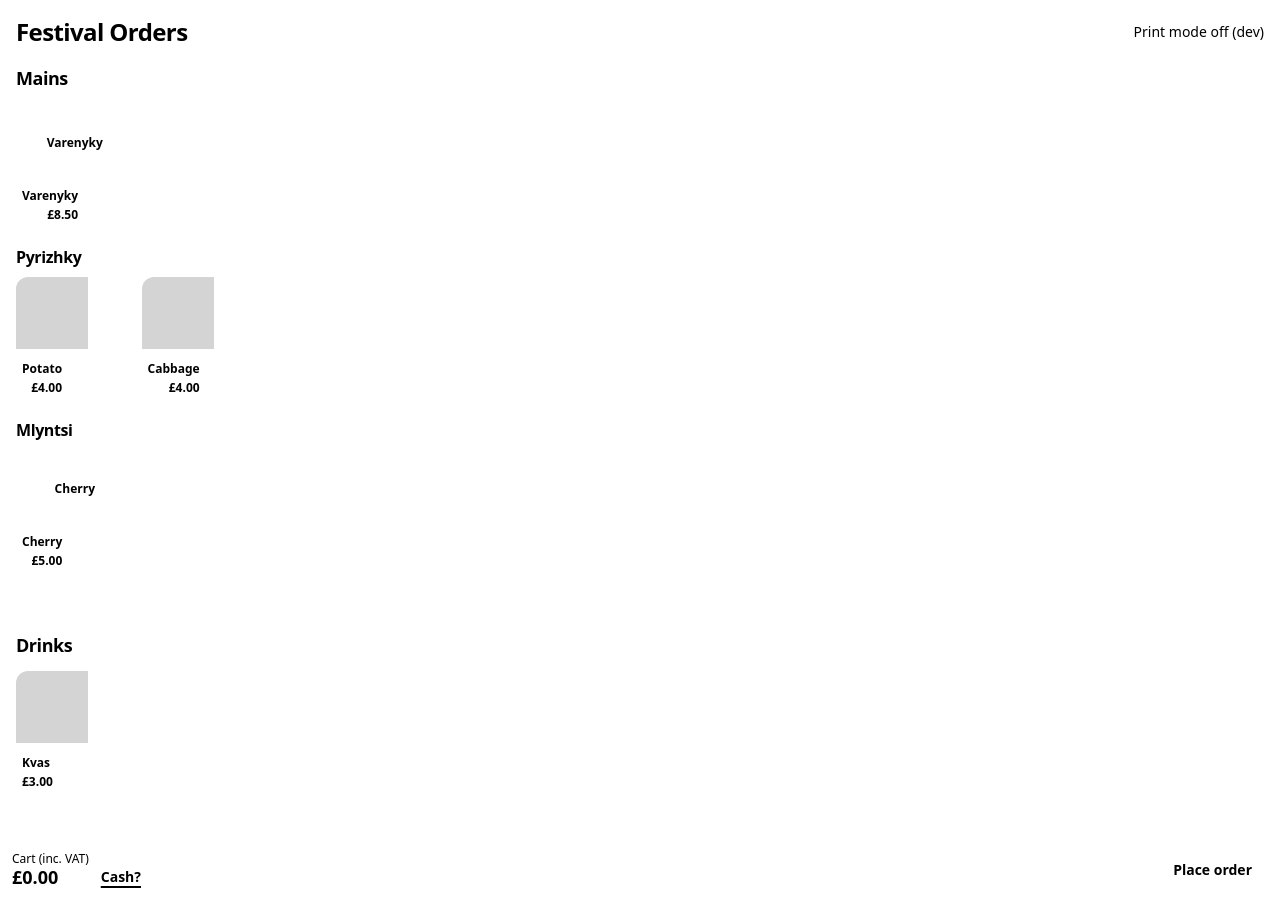
it: FestivalTillPage › opens modal only when product has addition class
The width and height of the screenshot is (1280, 900).
Click the button with aria-label "Order Varenyky".
click(75, 166)  # box [16,104,134,229]
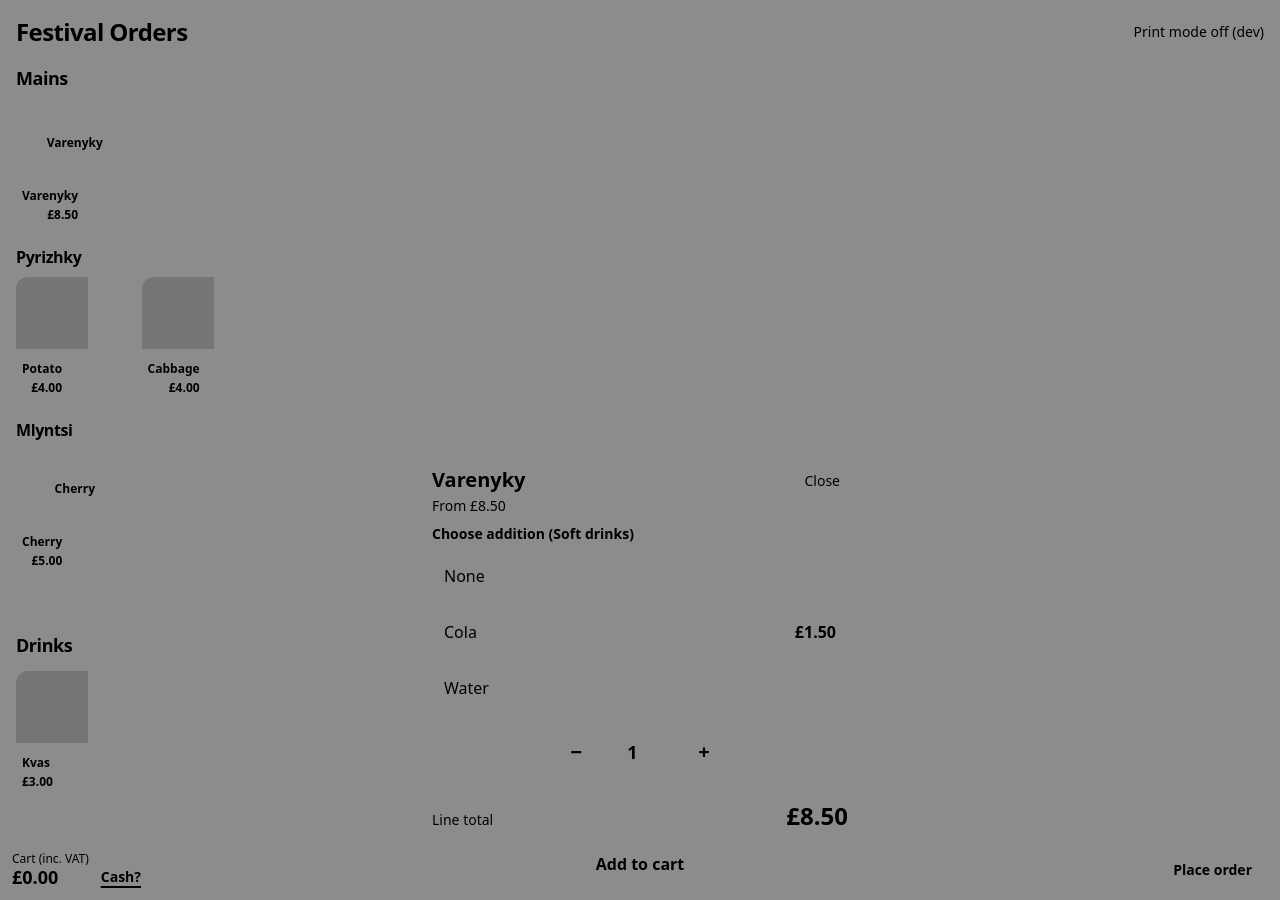
Expected: the dialog is shown
Expected: the button "Add to cart" is enabled, [432,840,848,888]
